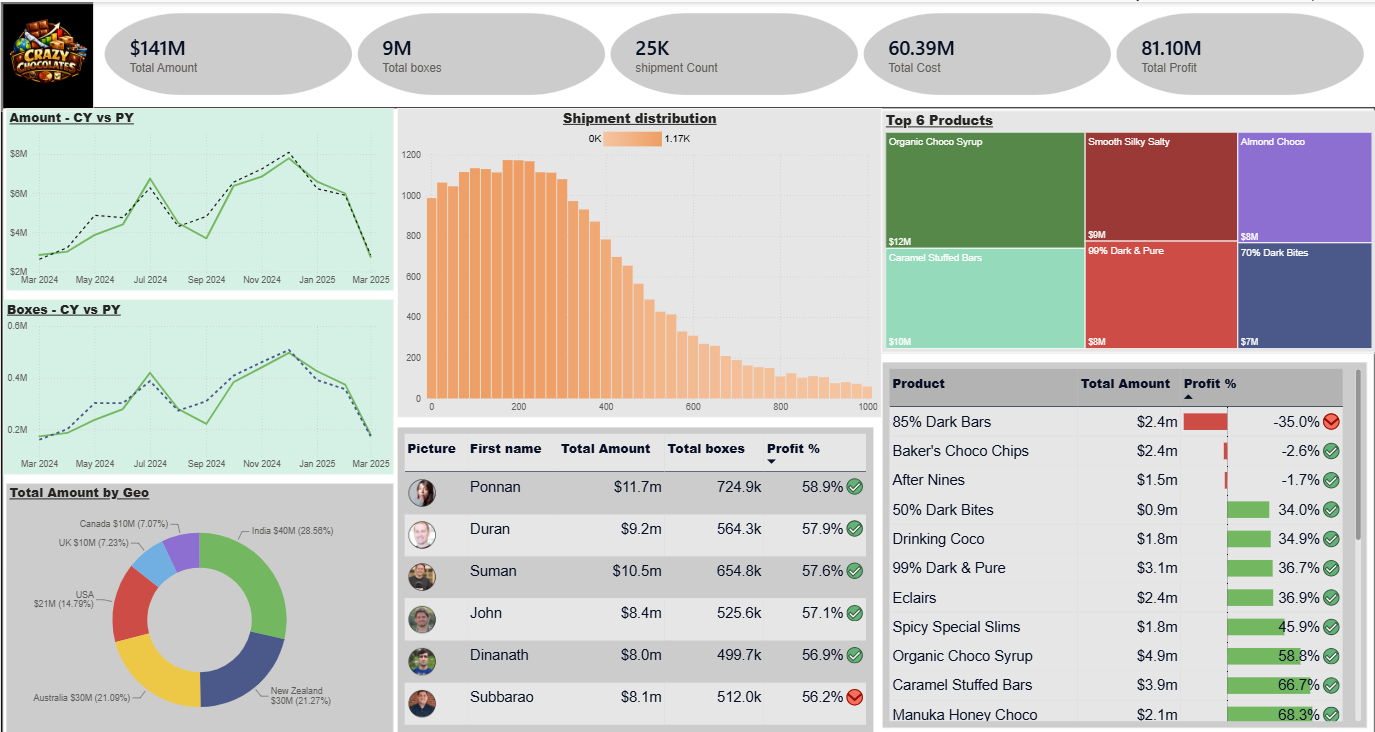

This screenshot's page, from the dashboard's own definition file:
{"tool":"powerbi","page":{"name":"report","canvas":[2250,1221],"ordinal":7},"visuals":[{"type":"lineChart","title":"Amount - CY vs PY","fields":{"Y":["shipments.Total Amount","shipments.Total Amount (last year)"],"Category":["calendar.Start of Month"]},"box":[8.2,173.9,634.2,298.7],"z":0},{"type":"lineChart","title":"Boxes - CY vs PY","fields":{"Y":["shipments.Total boxes","shipments.Total boxes (last year)"],"Category":["calendar.Start of Month"]},"box":[4.1,486.9,638.3,286.4],"z":1000},{"type":"image","box":[0,0,152.3,179.1],"z":2000},{"type":"donutChart","fields":{"Category":["locations.Geo"],"Y":["shipments.Total Amount"]},"box":[8.2,787.7,634.2,419.4],"z":3000},{"type":"clusteredColumnChart","title":"Shipment distribution","fields":{"Category":["shipments.Boxes (bins)"],"Y":["shipments.shipment Count"]},"box":[648.6,173.9,779.5,480.8],"z":4000},{"type":"tableEx","title":"Top 6 Persons","fields":{"Values":["people.Picture","people.First name","shipments.Total Amount","shipments.Total boxes","shipments.Profit %"]},"box":[648.6,669,779.5,538.1],"z":5000},{"type":"treemap","title":"Top 6 Products","fields":{"Group":["products.Product"],"Values":["shipments.Total Amount"]},"box":[1442.4,178.5,808.1,395.6],"z":6000},{"type":"cardVisual","fields":{"Data":["shipments.Total Amount","shipments.Total boxes","shipments.shipment Count","shipments.Total Cost","shipments.Total Profit"]},"box":[151.4,0,2099.1,171.9],"z":7000},{"type":"tableEx","fields":{"Values":["products.Product","shipments.Total Amount","shipments.Profit %"]},"box":[1442.4,589.2,793.8,617.9],"z":8000}]}

Visuals, with their boxes in screenshot pixels (x1, y1, x2, y2), scaled from the page's 2250x1221 canvas onto the 1375x732 screenshot:
"Amount - CY vs PY" lineChart: left=5, top=104, right=393, bottom=283
"Boxes - CY vs PY" lineChart: left=3, top=292, right=393, bottom=464
image: left=0, top=0, right=93, bottom=107
donutChart - locations.Geo x shipments.Total Amount: left=5, top=472, right=393, bottom=724
"Shipment distribution" clusteredColumnChart: left=396, top=104, right=873, bottom=392
"Top 6 Persons" tableEx: left=396, top=401, right=873, bottom=724
"Top 6 Products" treemap: left=881, top=107, right=1374, bottom=344
cardVisual - shipments.Total Amount x shipments.Total boxes: left=93, top=0, right=1374, bottom=103
tableEx - products.Product x shipments.Total Amount: left=881, top=353, right=1367, bottom=724
